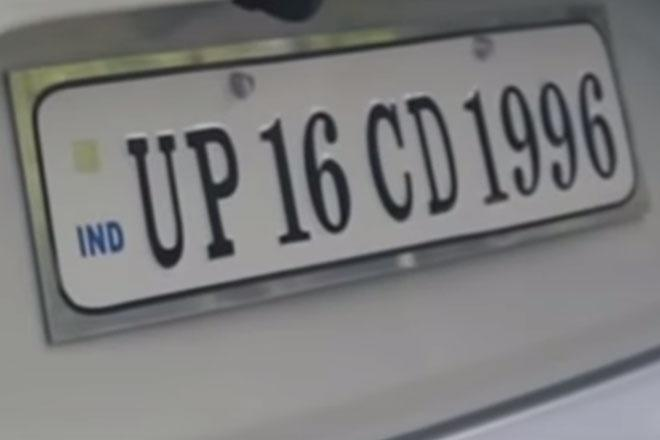1: (250, 110, 319, 255), (452, 86, 515, 215)
6: (291, 101, 369, 247), (572, 58, 632, 198)
9: (492, 72, 554, 206), (535, 70, 589, 207)
C: (356, 87, 428, 231)
D: (404, 86, 478, 225)
P: (181, 110, 263, 275)
U: (113, 115, 202, 279)
